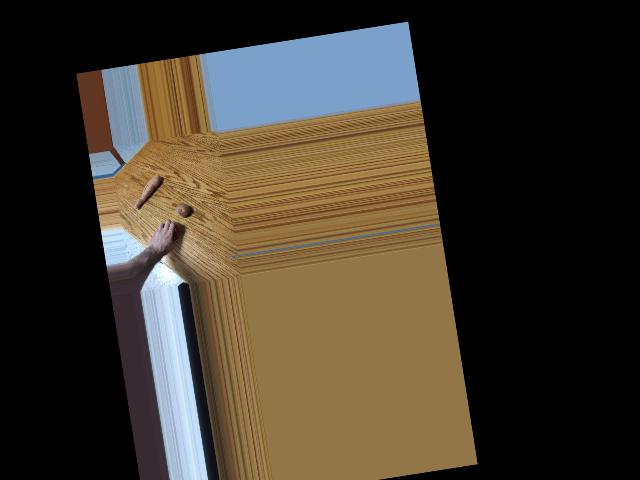onion: (164, 223, 182, 243)
